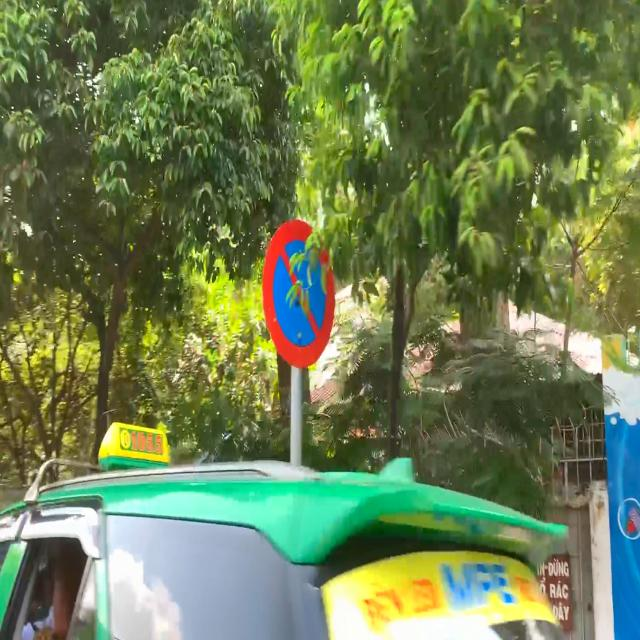Cam do: (261, 219, 336, 371)
